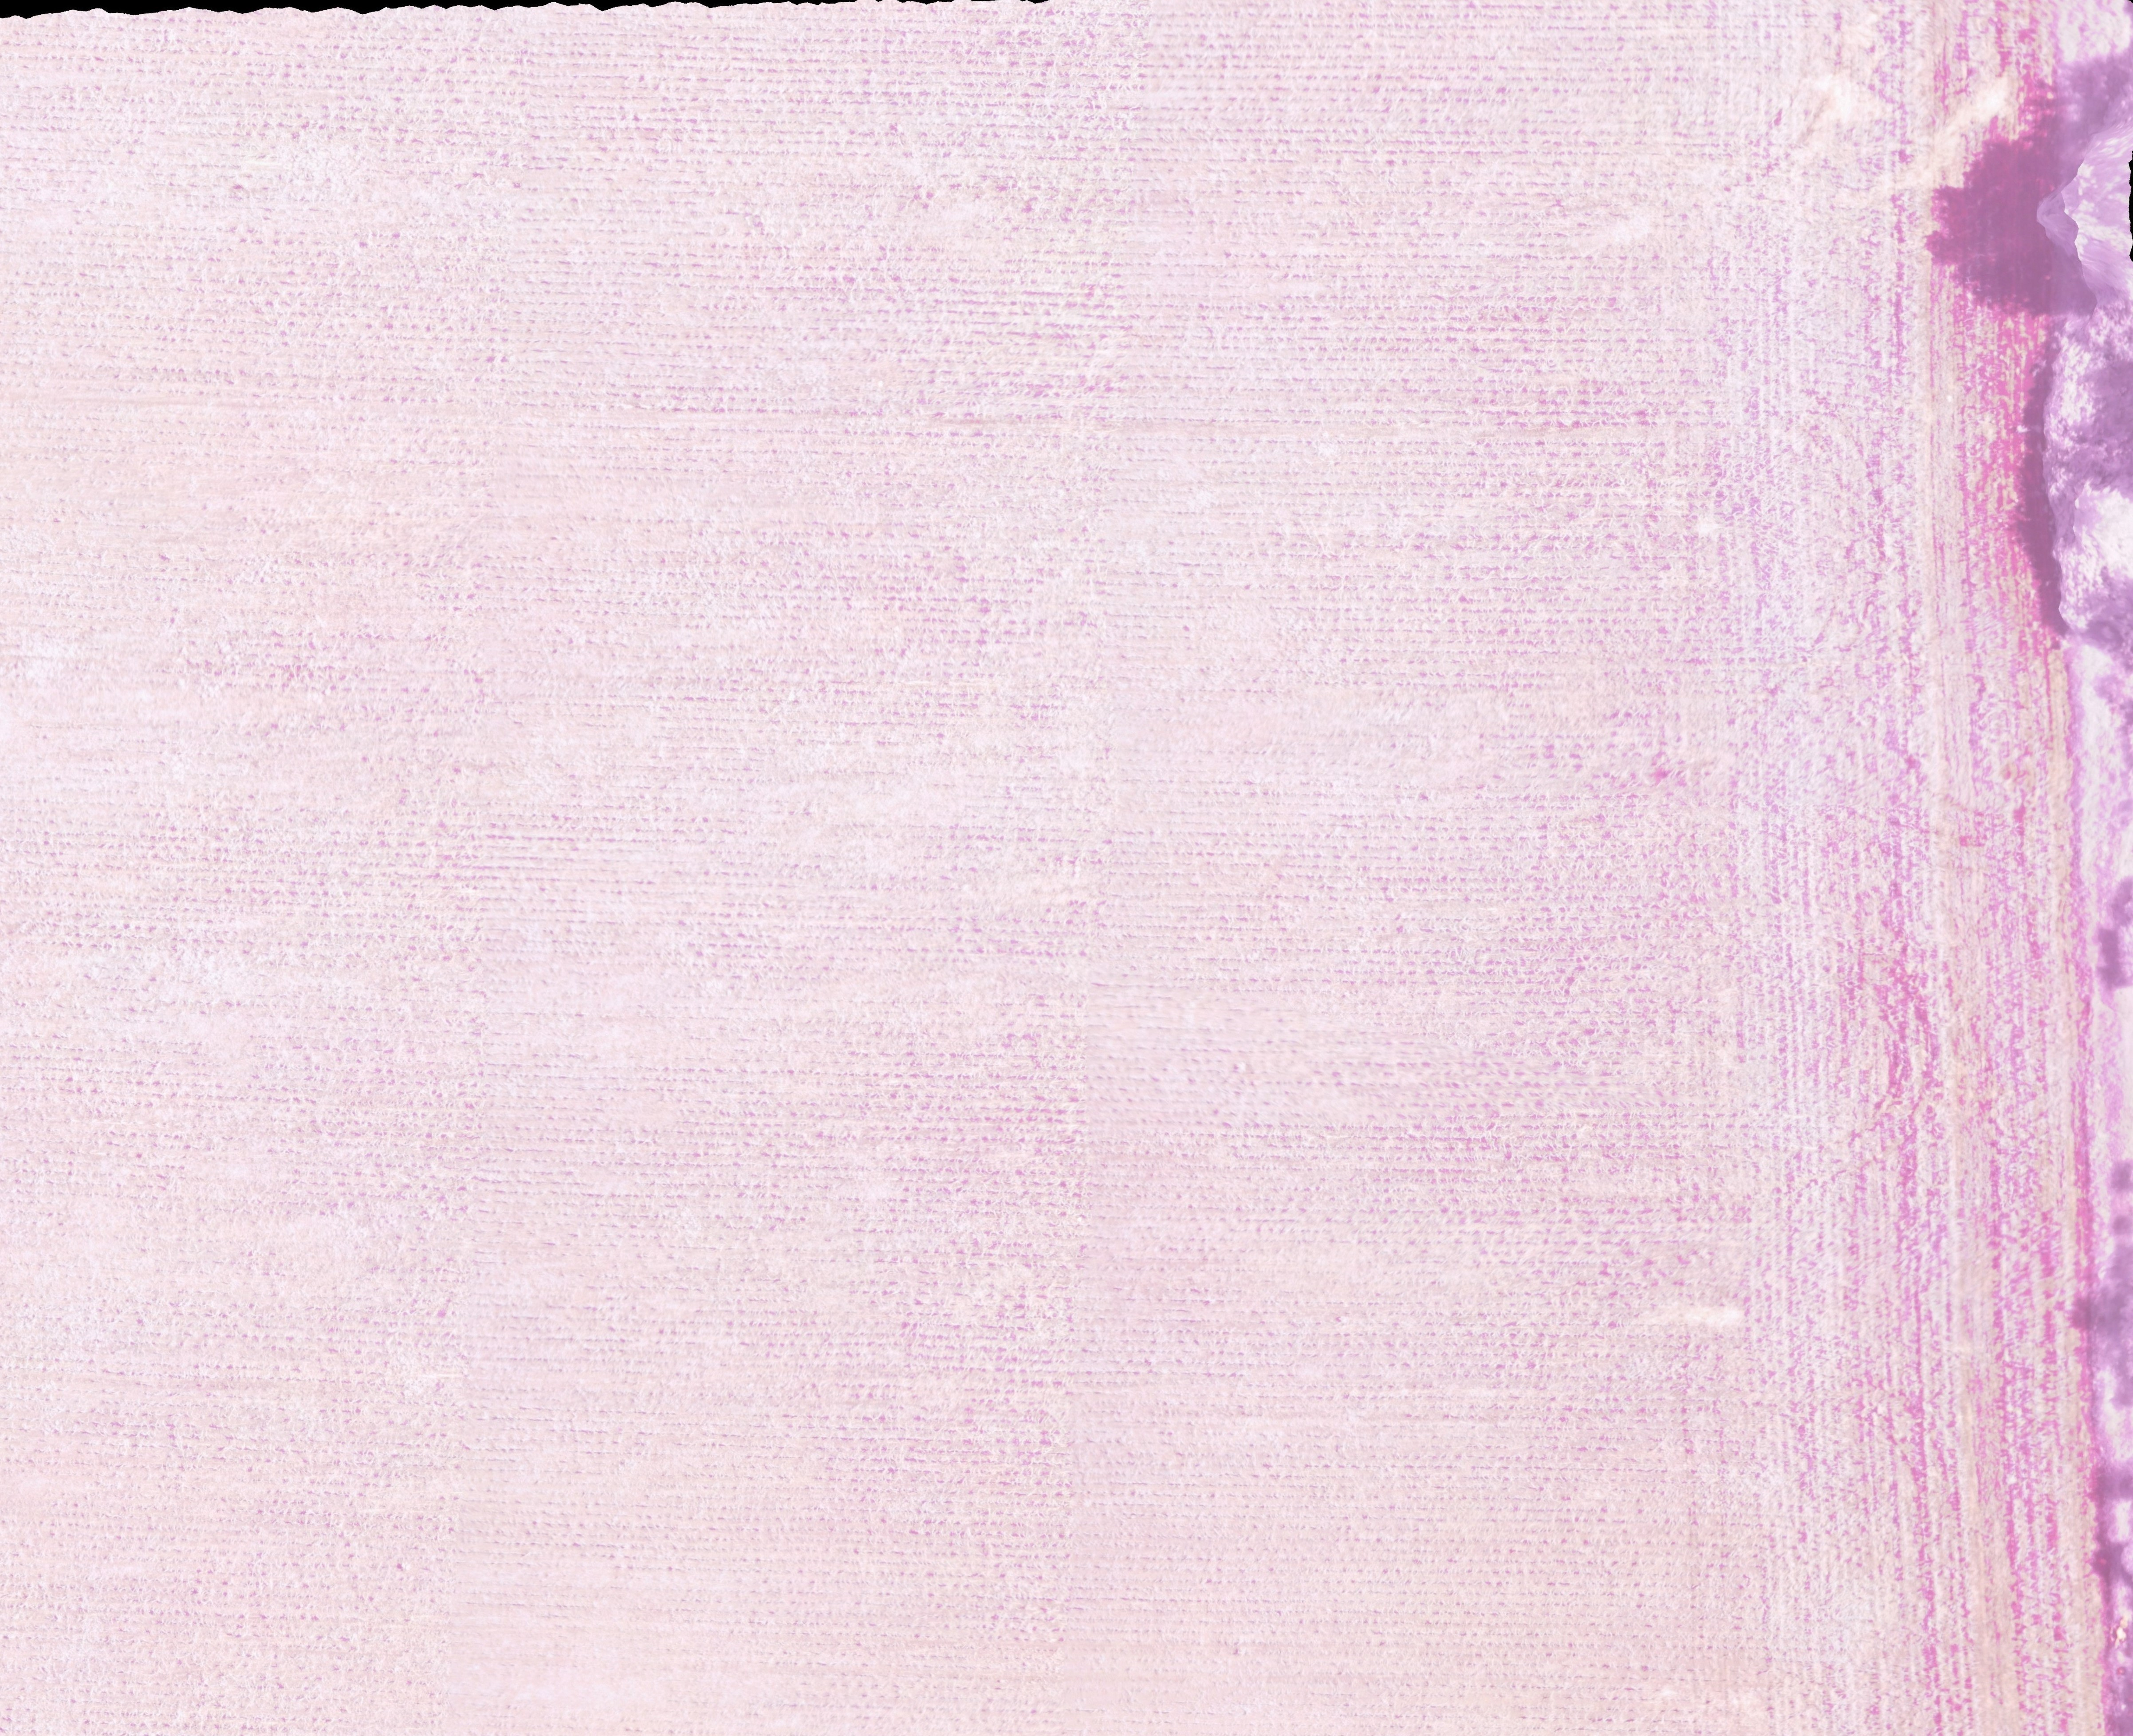tree: (1940, 110, 2129, 310), (2016, 326, 2133, 634)
